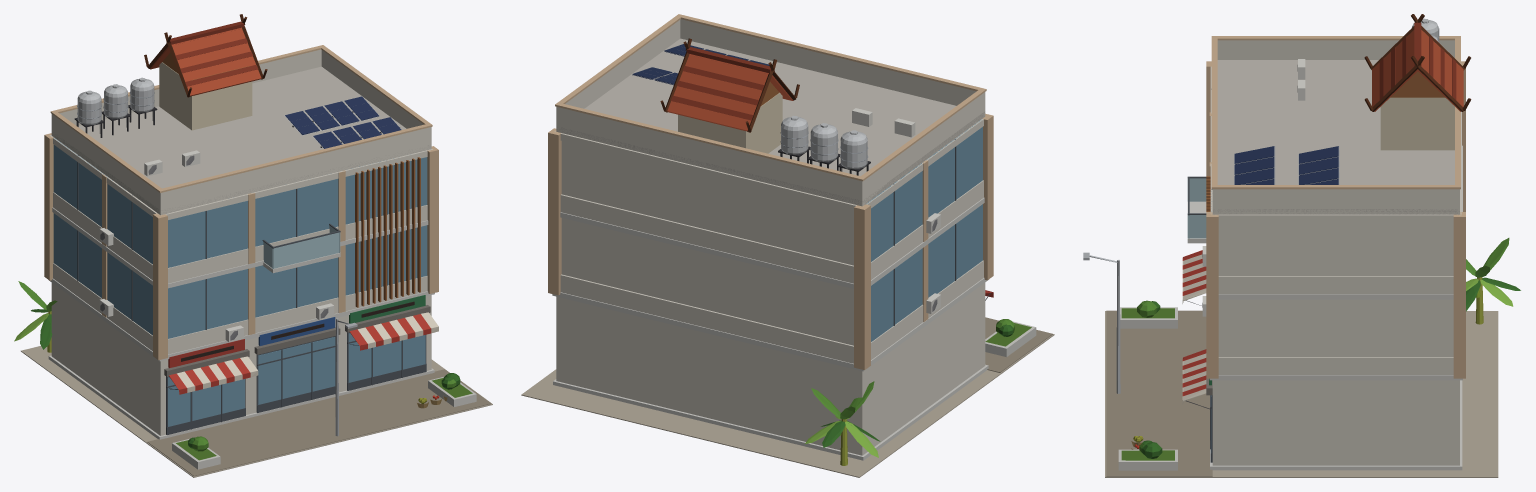
The model's file is shop_2.glb.
3 views of the same model, side by side, from view 1: azimuth 30°, elevation 25°; view 2: azimuth 150°, elevation 25°; view 3: azimuth 270°, elevation 25° (orthographic). The views are drawn at different scales.
Parts seen in each view (by area): view 1: body; view 2: body; view 3: body.
Boxes of the visible parts, x1,y1,x2,y2 form: body: (14, 14, 492, 477); body: (521, 14, 1054, 477); body: (1083, 14, 1520, 477).
Size of the model in its own units: 16.54 by 16.05 by 17.72.
